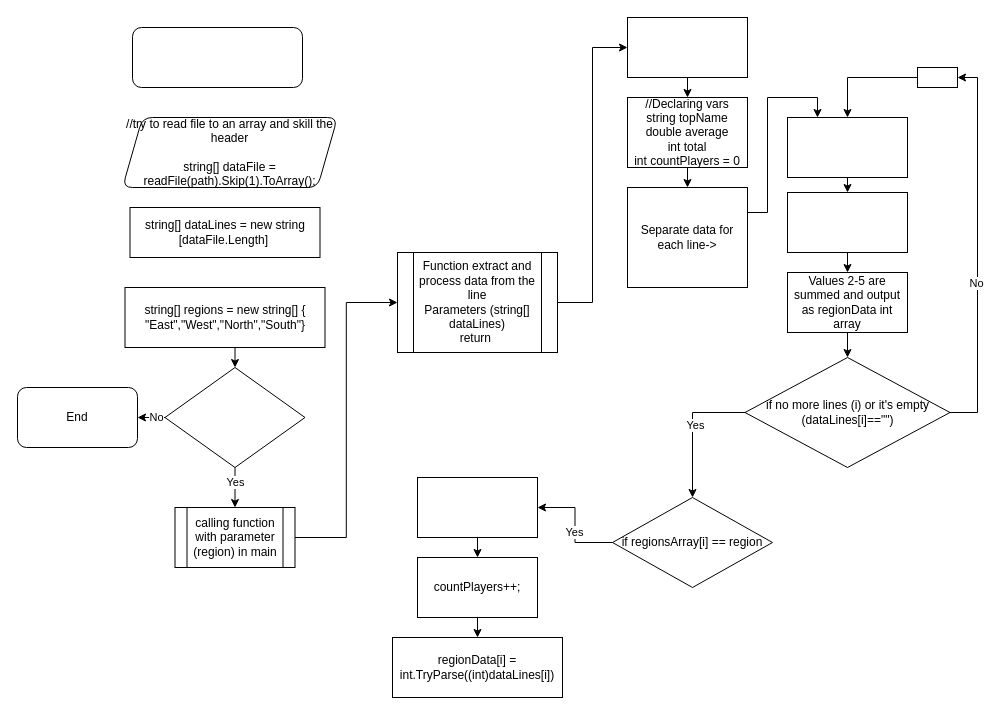
The diagram is 1003 pixels wide and 715 high, and some of its shapes have lost their labels. Here are the shapes that lost their labels. From the top down, the centre of each, then its label:
the point at 217,57: Players Attendance
the point at 687,47: int[] regionData = new int[dataFile.Lenght]
the point at 937,77: i++
the point at 847,147: Value 0 is our string[] namesArray
the point at 847,222: Value 1 is string[] regionsArray
the point at 234,417: if (foreach) region in regions left
